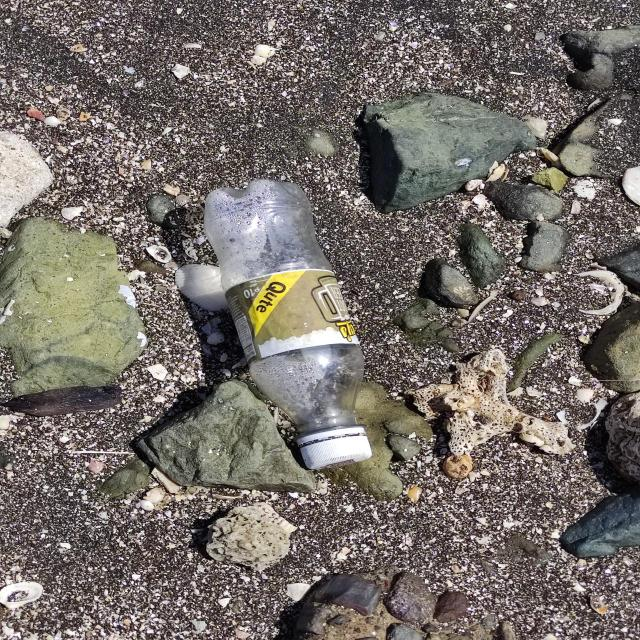litter: (202, 180, 372, 470)
